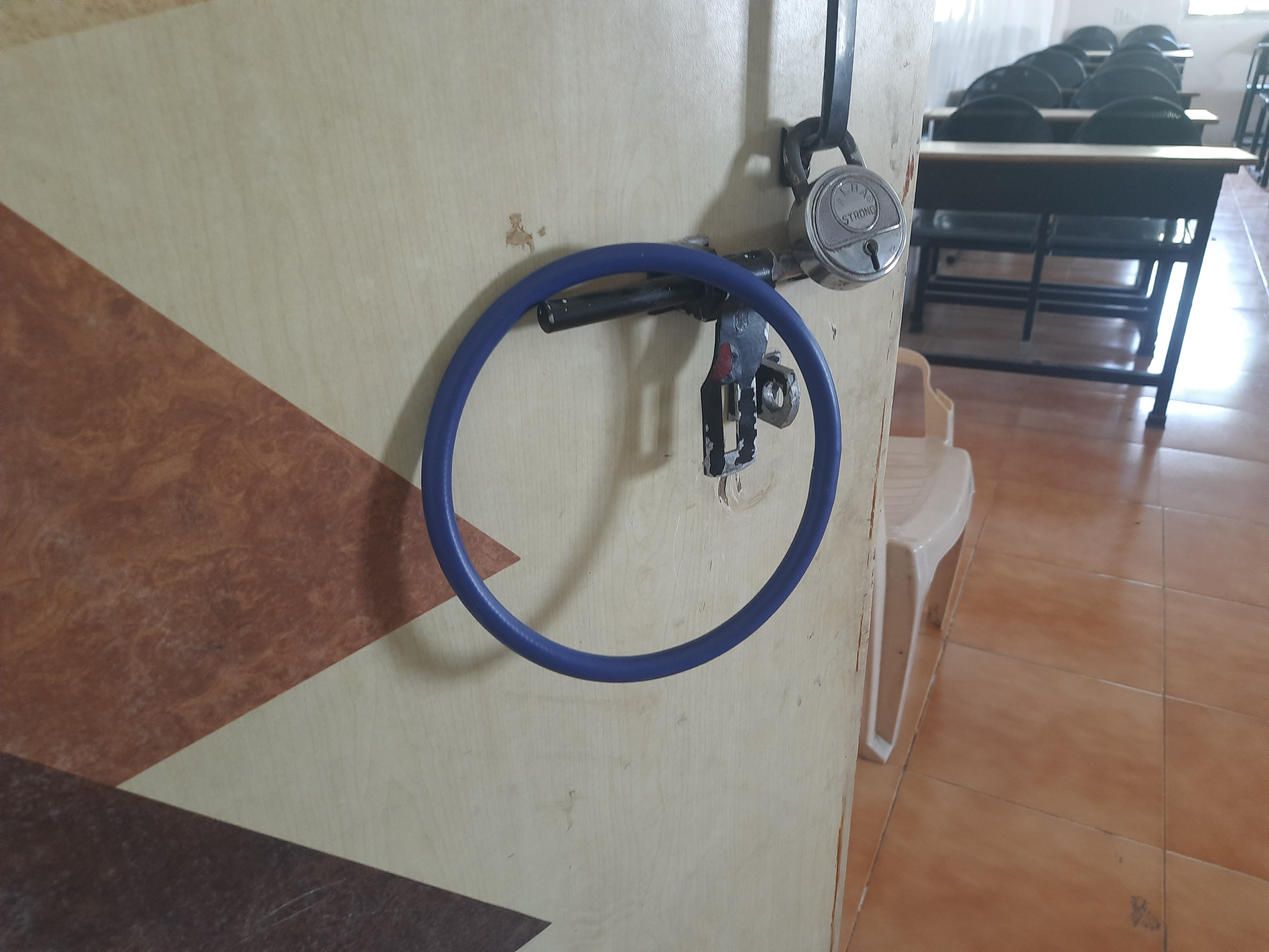Blue ring: (419, 244, 837, 681)
